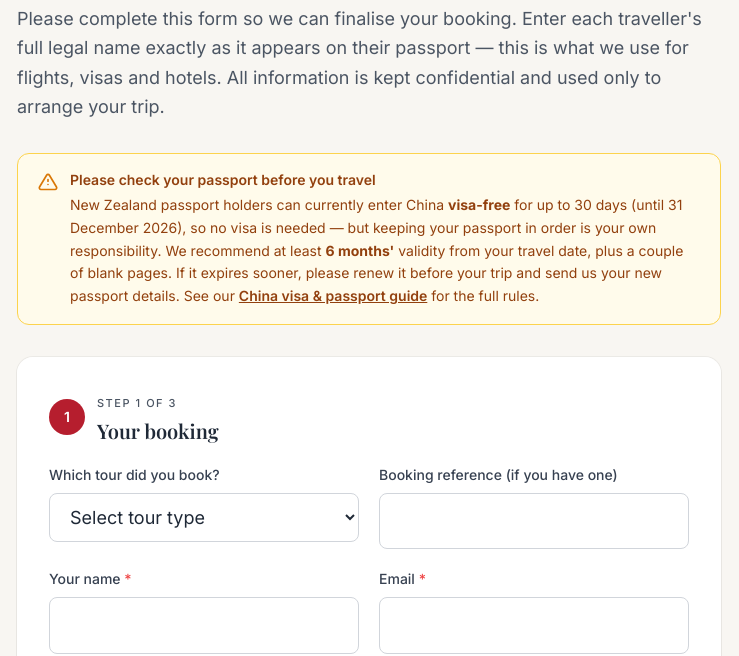
Test: room sharing reads in plain words › tells a solo traveller about the single supplement
Select "China Discovery" in the dropdown labelled "Which tour did you book?" at (204, 517), box [49, 493, 359, 542]
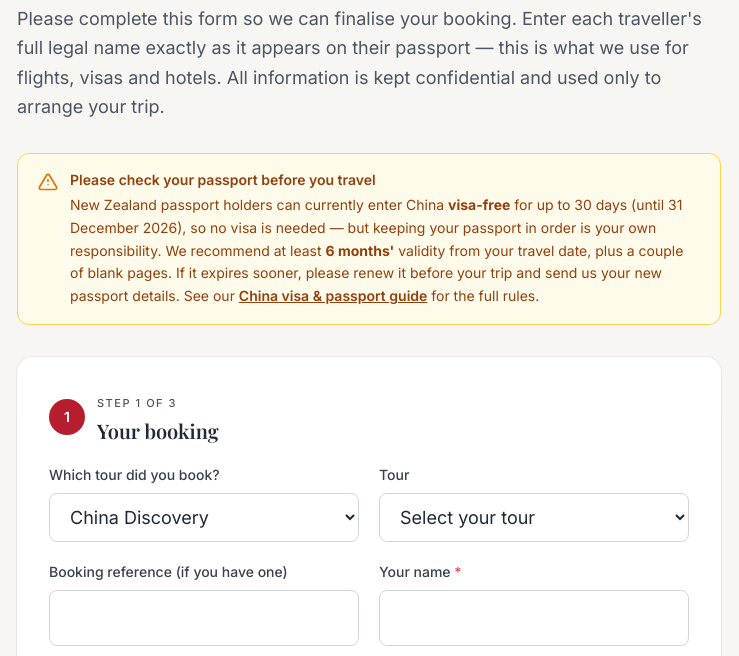
Select "Best of China" in the dropdown labelled "Tour" at (534, 517), box [379, 493, 689, 542]
(page scrolled)
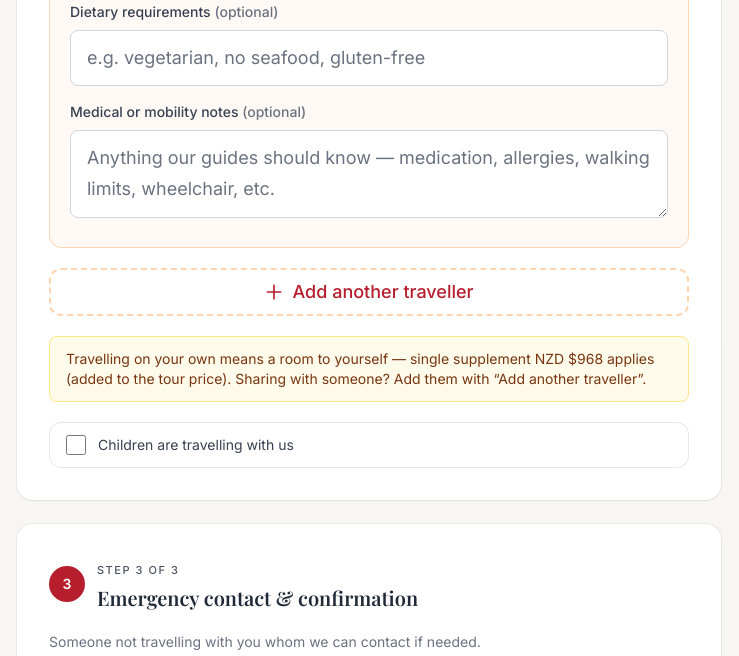
Click the button "Add another traveller" at (369, 292), box [49, 268, 689, 316]
(page scrolled)
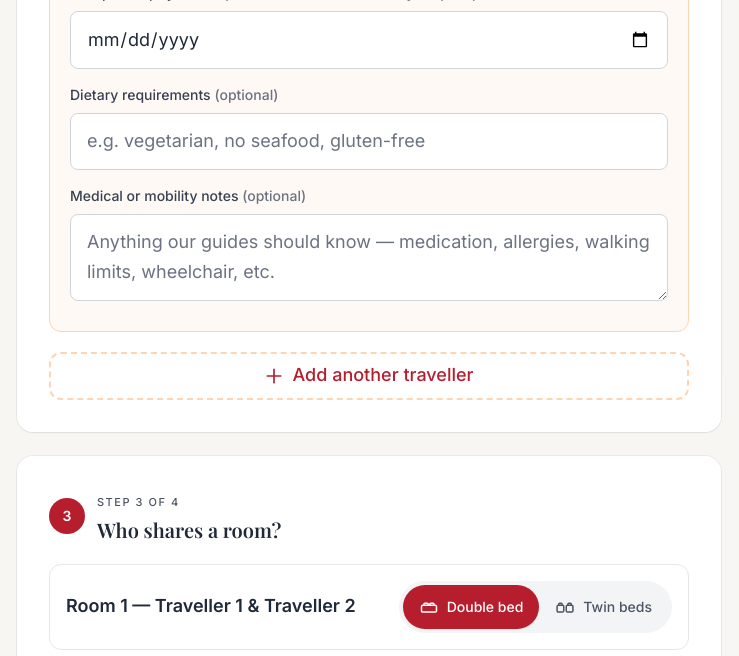
Check: the text "Travelling on your own" is gone
